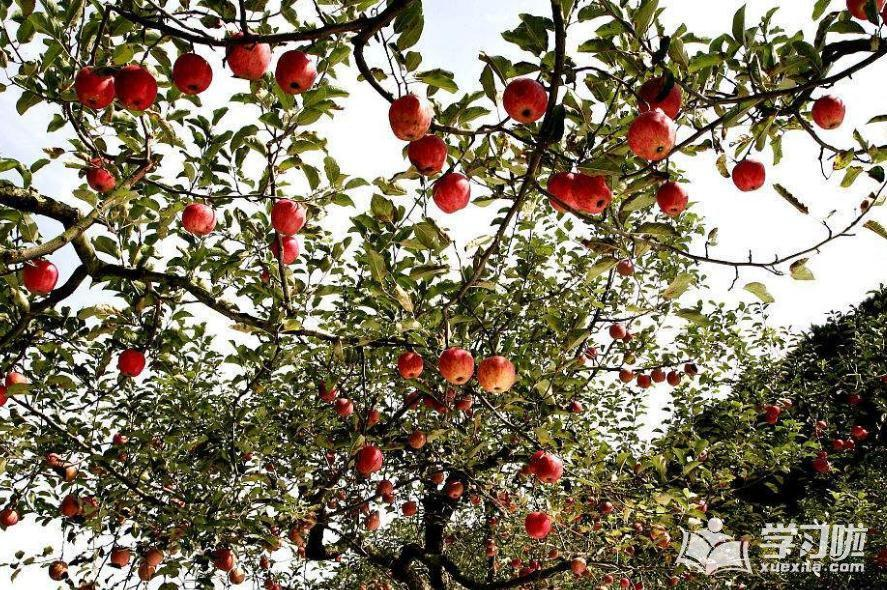apple: (75, 63, 158, 113), (34, 261, 88, 302), (630, 109, 673, 159), (388, 93, 433, 140), (114, 64, 157, 111), (274, 49, 317, 95), (503, 77, 546, 123), (73, 65, 117, 109), (226, 37, 271, 78), (170, 51, 212, 94), (404, 133, 445, 172), (21, 258, 58, 294), (269, 199, 303, 235), (441, 348, 474, 385), (810, 95, 844, 130), (180, 202, 214, 235), (482, 356, 513, 392), (733, 158, 764, 193), (539, 104, 564, 142), (532, 454, 563, 483), (523, 511, 556, 537), (355, 445, 382, 476), (396, 348, 423, 378)
